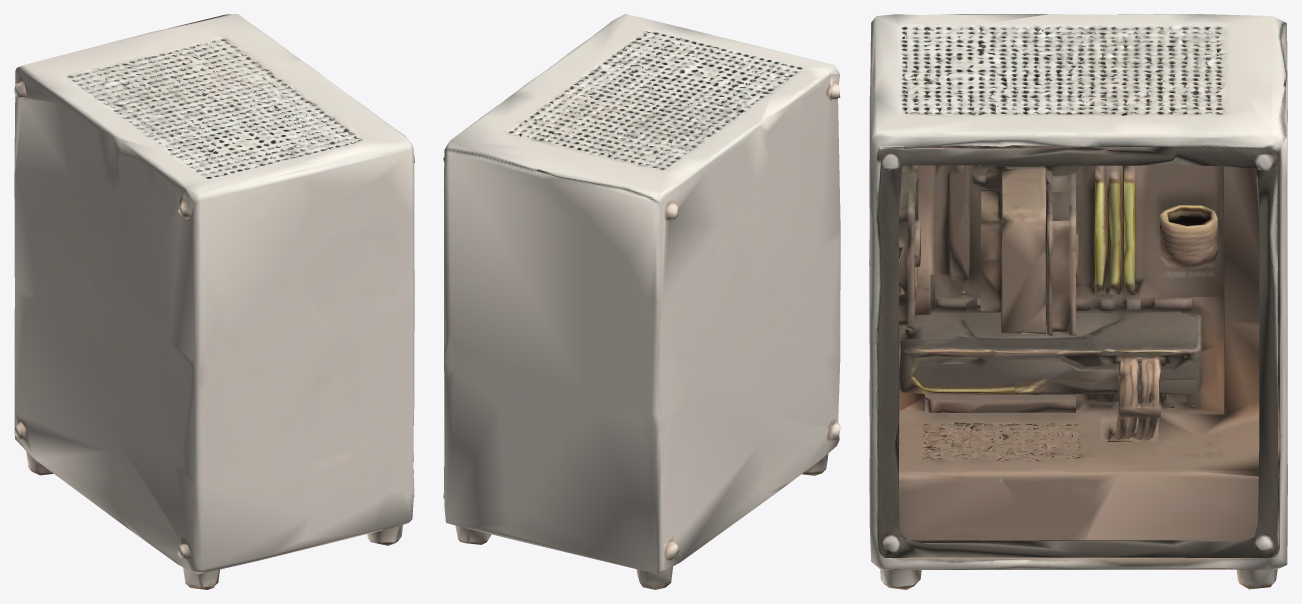
The model's file is torre.glb.
3 renders of one model, left to right at view 1: azimuth 30°, elevation 25°; view 2: azimuth 150°, elevation 25°; view 3: azimuth 270°, elevation 25°, orthographic. The views are drawn at different scales.
Parts seen in each view (by area): view 1: tripo_node_58047c61-4169-436a-9e31-aa1fb3af8e7a; view 2: tripo_node_58047c61-4169-436a-9e31-aa1fb3af8e7a; view 3: tripo_node_58047c61-4169-436a-9e31-aa1fb3af8e7a.
Boxes of the visible parts, x1=… form: tripo_node_58047c61-4169-436a-9e31-aa1fb3af8e7a: x1=14, y1=14, x2=414, y2=589; tripo_node_58047c61-4169-436a-9e31-aa1fb3af8e7a: x1=443, y1=14, x2=840, y2=589; tripo_node_58047c61-4169-436a-9e31-aa1fb3af8e7a: x1=869, y1=14, x2=1287, y2=589.
Size of the model in its own units: 0.5957 by 1 by 0.8215.
Materials: 1 (1 with a texture image).
